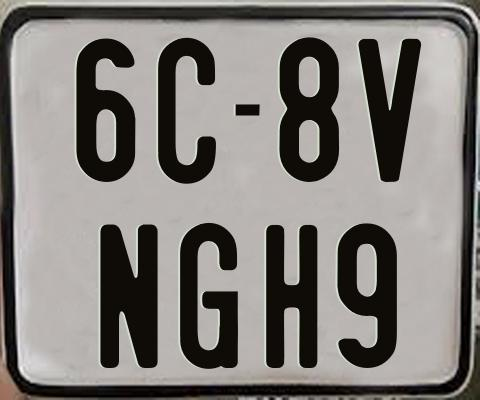6: (74, 37, 140, 181)
8: (279, 36, 344, 184)
9: (336, 222, 398, 368)
C: (157, 36, 219, 187)
G: (177, 222, 236, 370)
H: (263, 224, 315, 371)
N: (100, 224, 162, 371)
V: (358, 36, 422, 180)
